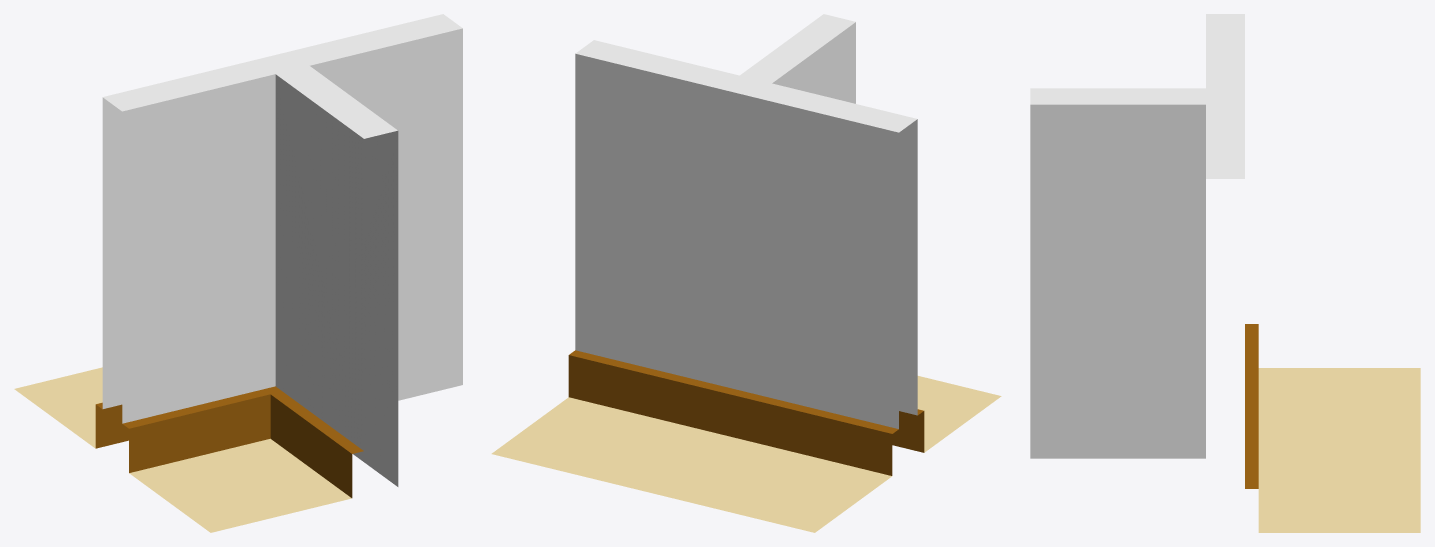
Rendered from I_Wall_T_Shape_Elevator_R.fbx.
3 renders of one model, left to right at view 1: azimuth 30°, elevation 25°; view 2: azimuth 150°, elevation 25°; view 3: azimuth 270°, elevation 25°, orthographic. The views are drawn at different scales.
Parts seen in each view (by area): view 1: I_Wall_T_Shape_Elevator_R; view 2: I_Wall_T_Shape_Elevator_R; view 3: I_Wall_T_Shape_Elevator_R.
Boxes of the visible parts, left/top/right/bottom form: I_Wall_T_Shape_Elevator_R: left=14, top=14, right=462, bottom=532; I_Wall_T_Shape_Elevator_R: left=491, top=14, right=1001, bottom=532; I_Wall_T_Shape_Elevator_R: left=1030, top=14, right=1420, bottom=532.
Bounding box in the file's own units: 200 × 200 × 200.
Materials: 1 (1 with a texture image).
